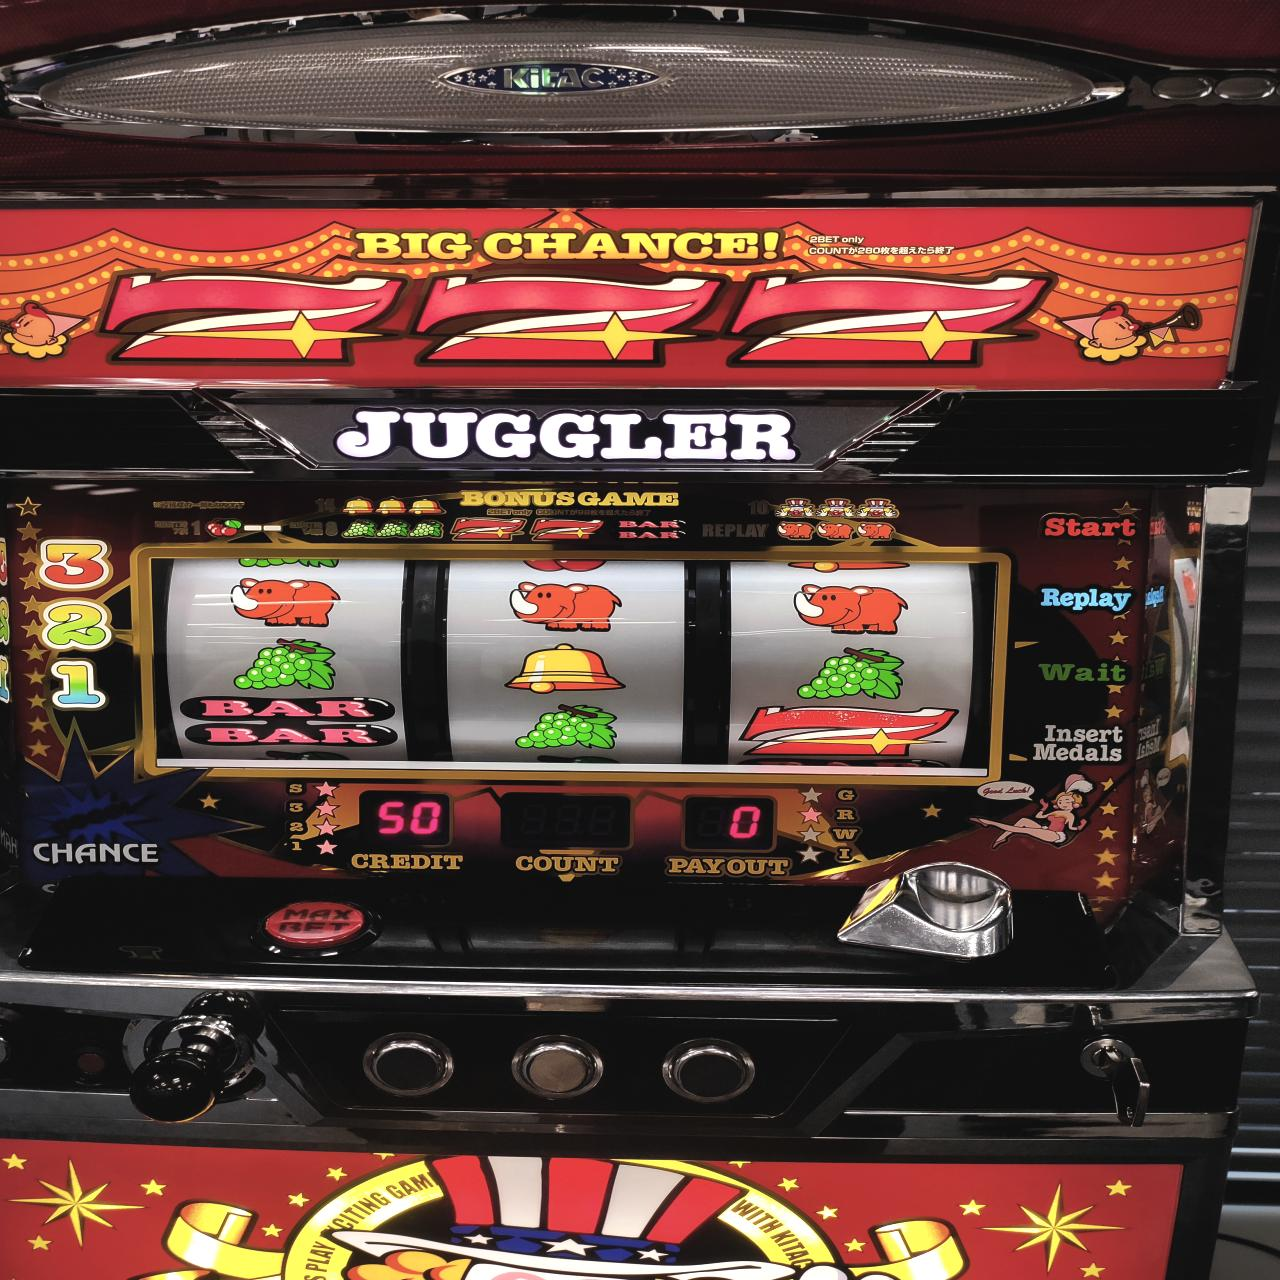7: (731, 703, 952, 761)
8: (784, 581, 911, 639), (223, 576, 341, 632), (496, 579, 621, 632)
Display: (135, 549, 1001, 778)
bar: (179, 695, 402, 750)
bell: (502, 644, 622, 693)
grape: (229, 634, 340, 694), (510, 695, 624, 753), (798, 641, 906, 701)
